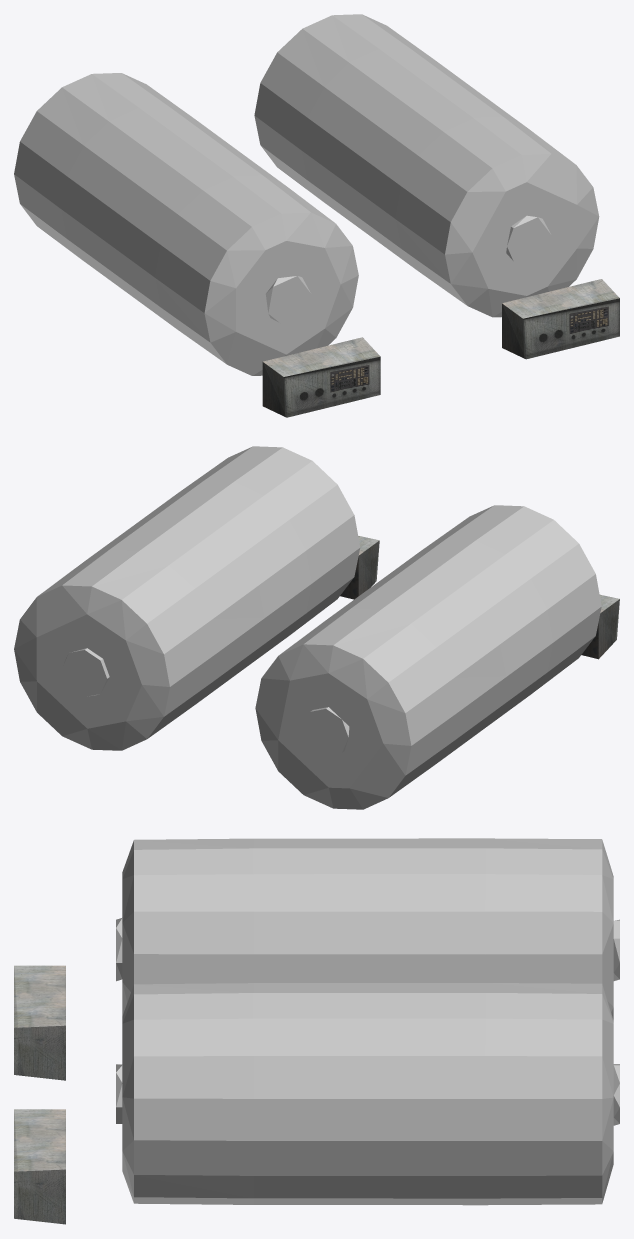
The model's file is Environmet_5_LOD03.fbx.
3 renders of one model, top to bottom at view 1: azimuth 30°, elevation 25°; view 2: azimuth 150°, elevation 25°; view 3: azimuth 270°, elevation 25°, orthographic. The views are drawn at different scales.
Visible parts, largest first — view 1: Environmet_5_LOD03; view 2: Environmet_5_LOD03; view 3: Environmet_5_LOD03.
Part boxes in pixels (bbox=[...]): Environmet_5_LOD03: bbox=[14, 14, 619, 417]; Environmet_5_LOD03: bbox=[14, 446, 619, 809]; Environmet_5_LOD03: bbox=[14, 838, 619, 1224].
Bounding box in the file's own units: 6.99 × 2.76 × 7.51.
